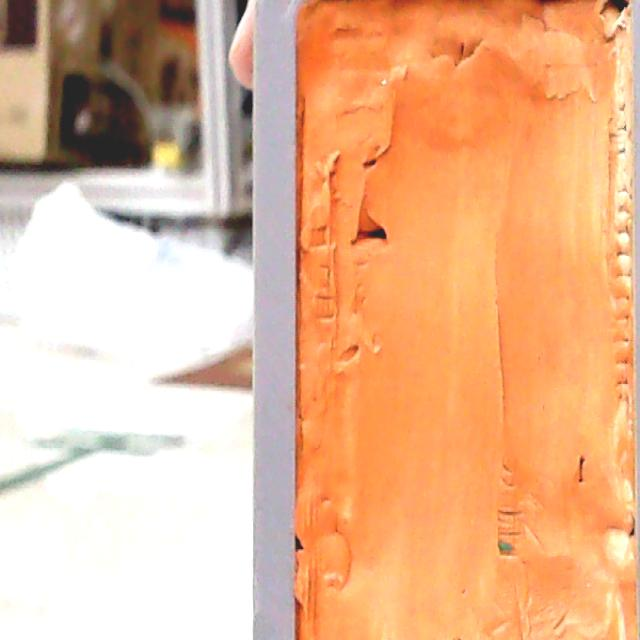block: (243, 0, 640, 639)
